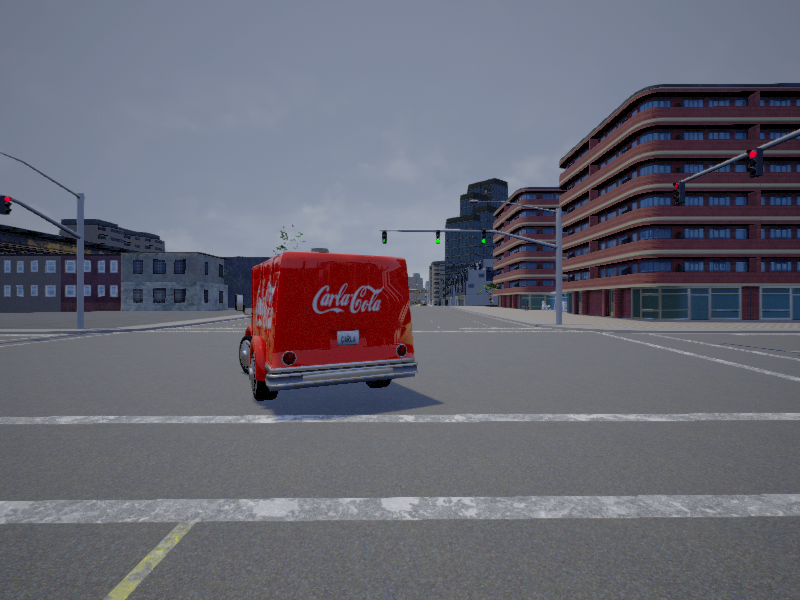Benign: (238, 254, 418, 394)
